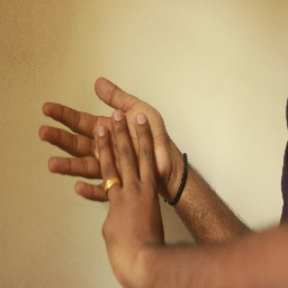M: (36, 73, 186, 215)
